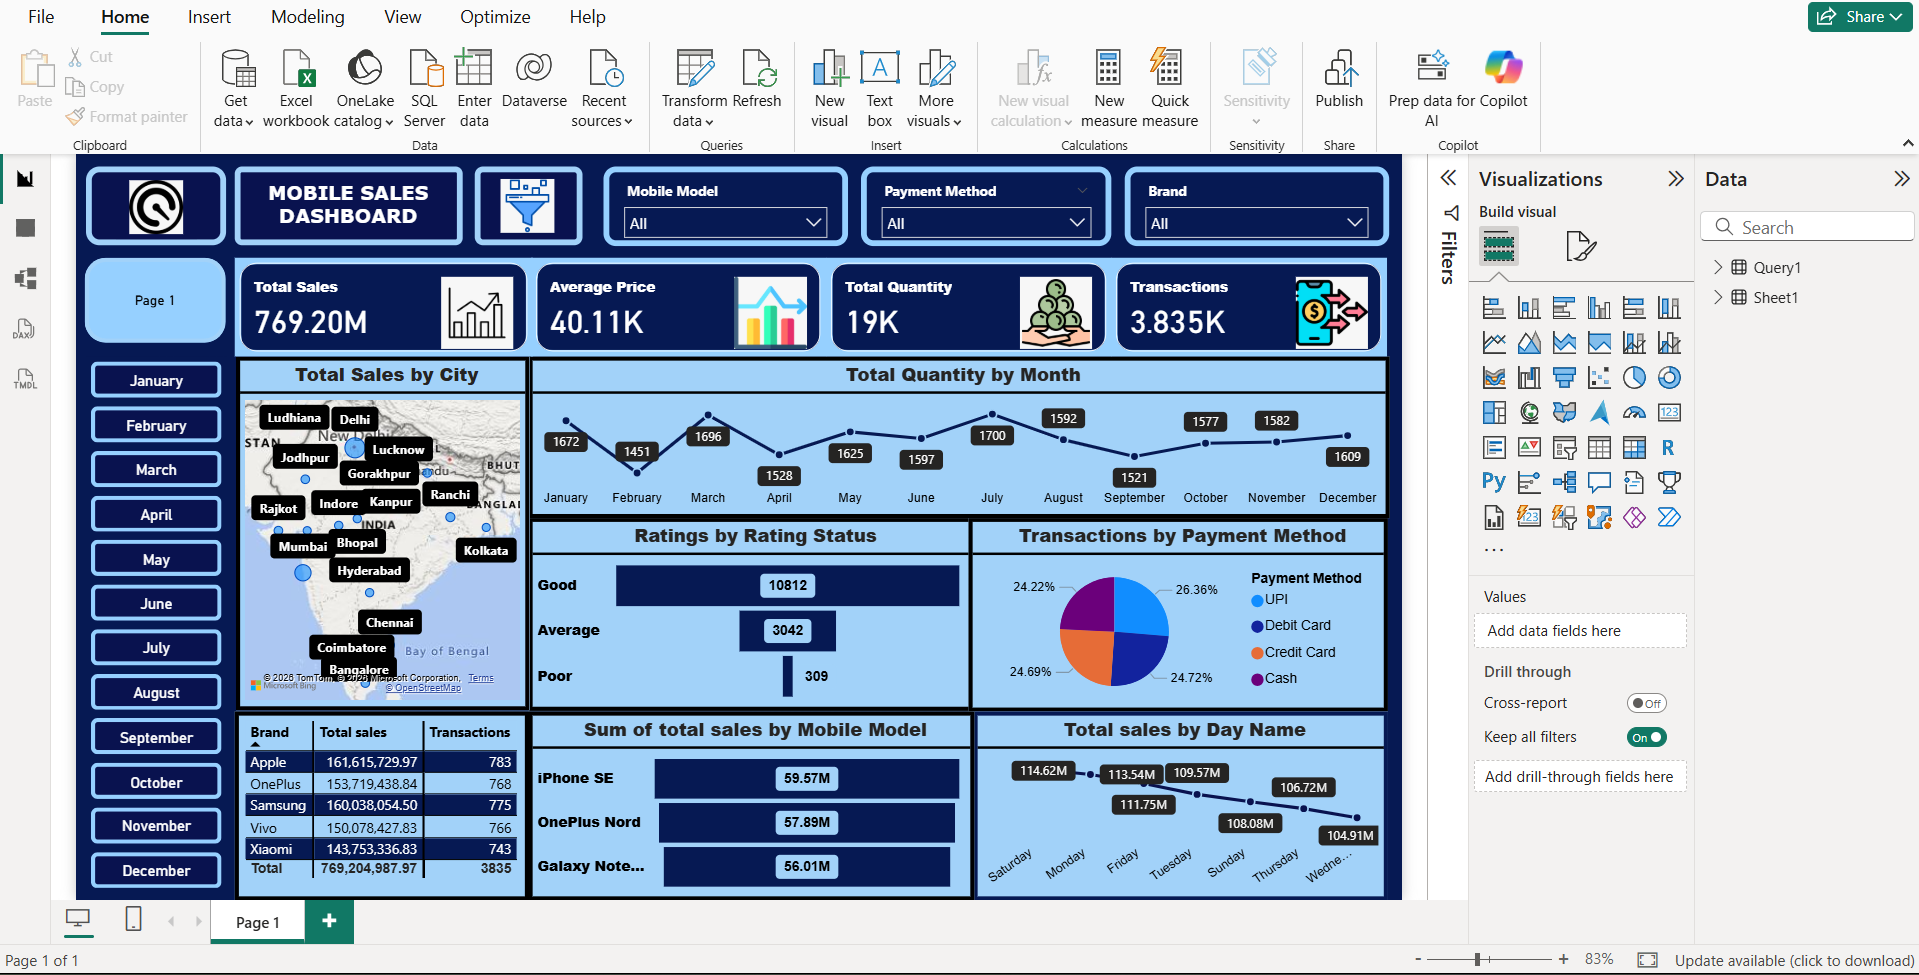

This screenshot's page, from the dashboard's own definition file:
{"tool":"powerbi","page":{"name":"Page 1","canvas":[1280,720],"ordinal":0},"visuals":[{"type":"funnel","title":"Ratings by Rating Status","fields":{"Category":["Sheet1.status"],"Y":["Sum(Sheet1.Customer Ratings)"]},"box":[436.2,351.2,430,186.2],"z":0},{"type":"pieChart","title":"Transactions by Payment Method","fields":{"Category":["Sheet1.Payment Method"],"Y":["CountNonNull(Sheet1.Payment Method)"]},"box":[861.2,351.2,405,187.5],"z":1000},{"type":"areaChart","title":"Total sales by Day Name","fields":{"Y":["Sum(Sheet1.total sales)"],"Category":["Sheet1.Day Name"]},"box":[866.2,537.5,400,182.5],"z":2000},{"type":"funnel","fields":{"Category":["Sheet1.Mobile Model"],"Y":["Sum(Sheet1.total sales)"]},"box":[436.2,537.5,430,182.5],"z":3000},{"type":"lineChart","title":"Total Quantity by Month","fields":{"Y":["Sheet1.total unit sold"],"Category":["Sheet1.Date.Variation.Date Hierarchy.Month"]},"box":[436.2,195,831.2,156.2],"z":4000},{"type":"map","title":"Total Sales by City","fields":{"Category":["Sheet1.City"],"Size":["Sheet1.total sales m"]},"box":[154.3,195.7,282.9,341.4],"z":5000},{"type":"tableEx","fields":{"Values":["Sheet1.Brand","Sum(Sheet1.total sales)","CountNonNull(Sheet1.Transaction ID)"]},"box":[153.8,537.5,283.8,182.5],"z":6000},{"type":"advancedSlicerVisual","fields":{"Values":["Sheet1.Date.Variation.Date Hierarchy.Month"]},"box":[9.7,195.4,136.3,524.8],"z":7000},{"type":"pageNavigator","box":[8.4,100.1,136.3,82],"z":8000},{"type":"cardVisual","fields":{"Data":["Sheet1.total sales m"]},"box":[153.2,100.1,287.1,95.3],"z":9000},{"type":"cardVisual","fields":{"Data":["Avg(Sheet1.Price Per Unit)"]},"box":[439.1,100.1,284.7,95.3],"z":10000},{"type":"cardVisual","fields":{"Data":["Sum(Sheet1.Units Sold)"]},"box":[723.9,100.1,275.1,95.3],"z":11000},{"type":"cardVisual","fields":{"Data":["CountNonNull(Sheet1.Transaction ID)"]},"box":[998.9,100.1,266.6,95.3],"z":12000},{"type":"slicer","fields":{"Values":["Sheet1.Mobile Model"]},"box":[509.2,12.5,235.8,76.7],"z":13000},{"type":"slicer","fields":{"Values":["Sheet1.Payment Method"]},"box":[757.5,12.5,241.7,76.7],"z":14000},{"type":"slicer","fields":{"Values":["Sheet1.Brand"]},"box":[1011.7,12.5,255,76.7],"z":15000},{"type":"textbox","box":[153.8,12.5,220,76.2],"z":16000},{"type":"textbox","box":[10,12.5,135,76.2],"z":17000},{"type":"image","box":[38.6,20.5,77.2,61.5],"z":18000},{"type":"textbox","box":[385,12.5,103.8,76.2],"z":19000},{"type":"image","box":[399.3,19.3,73.6,61.5],"z":20000}]}

Visuals, with their boxes on the page's 1280x720 design canvas (x1, y1, x2, y2). These are canvas units, not pixel positions in the 1919x975 screenshot, which may show the page scaled, cropped or inside an application window:
"Ratings by Rating Status" funnel: bbox=[436, 351, 866, 537]
"Transactions by Payment Method" pieChart: bbox=[861, 351, 1266, 539]
"Total sales by Day Name" areaChart: bbox=[866, 538, 1266, 720]
funnel - Sheet1.Mobile Model x Sum(Sheet1.total sales): bbox=[436, 538, 866, 720]
"Total Quantity by Month" lineChart: bbox=[436, 195, 1267, 351]
"Total Sales by City" map: bbox=[154, 196, 437, 537]
tableEx - Sheet1.Brand x Sum(Sheet1.total sales): bbox=[154, 538, 438, 720]
advancedSlicerVisual - Sheet1.Date.Variation.Date Hierarchy.Month: bbox=[10, 195, 146, 720]
pageNavigator: bbox=[8, 100, 145, 182]
cardVisual - Sheet1.total sales m: bbox=[153, 100, 440, 195]
cardVisual - Avg(Sheet1.Price Per Unit): bbox=[439, 100, 724, 195]
cardVisual - Sum(Sheet1.Units Sold): bbox=[724, 100, 999, 195]
cardVisual - CountNonNull(Sheet1.Transaction ID): bbox=[999, 100, 1266, 195]
slicer - Sheet1.Mobile Model: bbox=[509, 12, 745, 89]
slicer - Sheet1.Payment Method: bbox=[758, 12, 999, 89]
slicer - Sheet1.Brand: bbox=[1012, 12, 1267, 89]
textbox: bbox=[154, 12, 374, 89]
textbox: bbox=[10, 12, 145, 89]
image: bbox=[39, 20, 116, 82]
textbox: bbox=[385, 12, 489, 89]
image: bbox=[399, 19, 473, 81]
